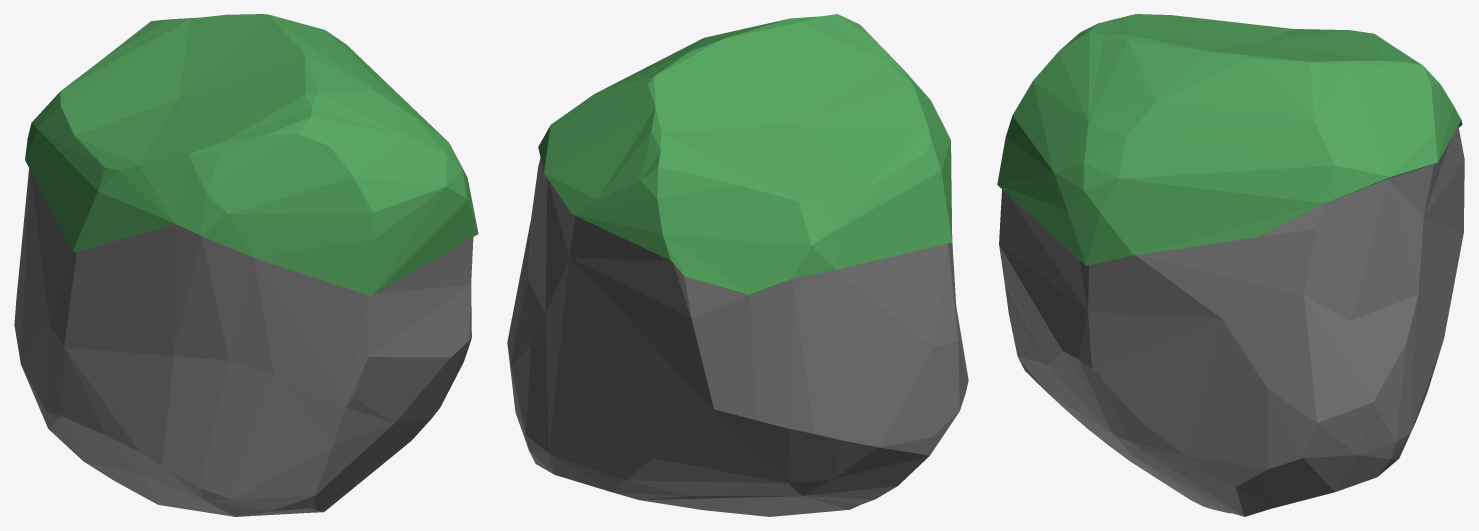
Rendered from small_rock_with_moss.fbx.
3 views of the same model, side by side, from view 1: azimuth 30°, elevation 25°; view 2: azimuth 150°, elevation 25°; view 3: azimuth 270°, elevation 25° (orthographic). The views are drawn at different scales.
Visible parts, largest first — view 1: Cube.005, Cube.006; view 2: Cube.005, Cube.006; view 3: Cube.005, Cube.006.
Part boxes in pixels (bbox=[...]): Cube.005: bbox=[14, 168, 473, 516]; Cube.006: bbox=[25, 14, 478, 295]; Cube.005: bbox=[507, 158, 968, 516]; Cube.006: bbox=[538, 14, 952, 295]; Cube.005: bbox=[999, 126, 1464, 516]; Cube.006: bbox=[997, 14, 1462, 265].
Bounding box in the file's own units: 27.01 × 29.21 × 27.82.
